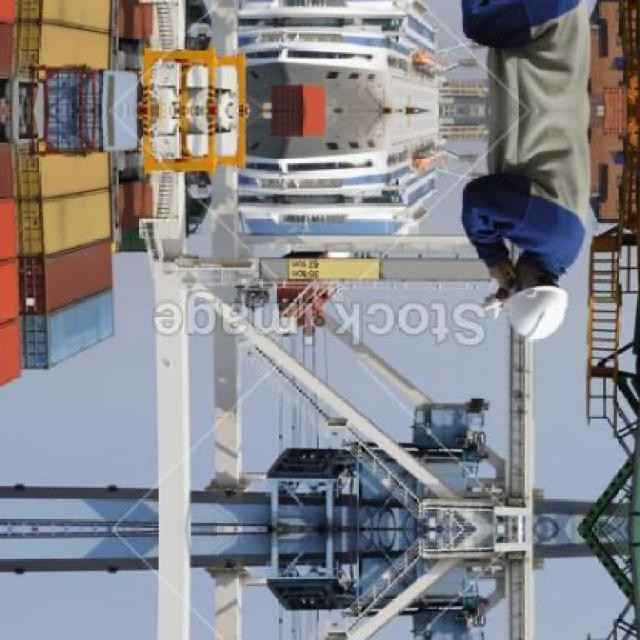con casco: (484, 257, 612, 351)
